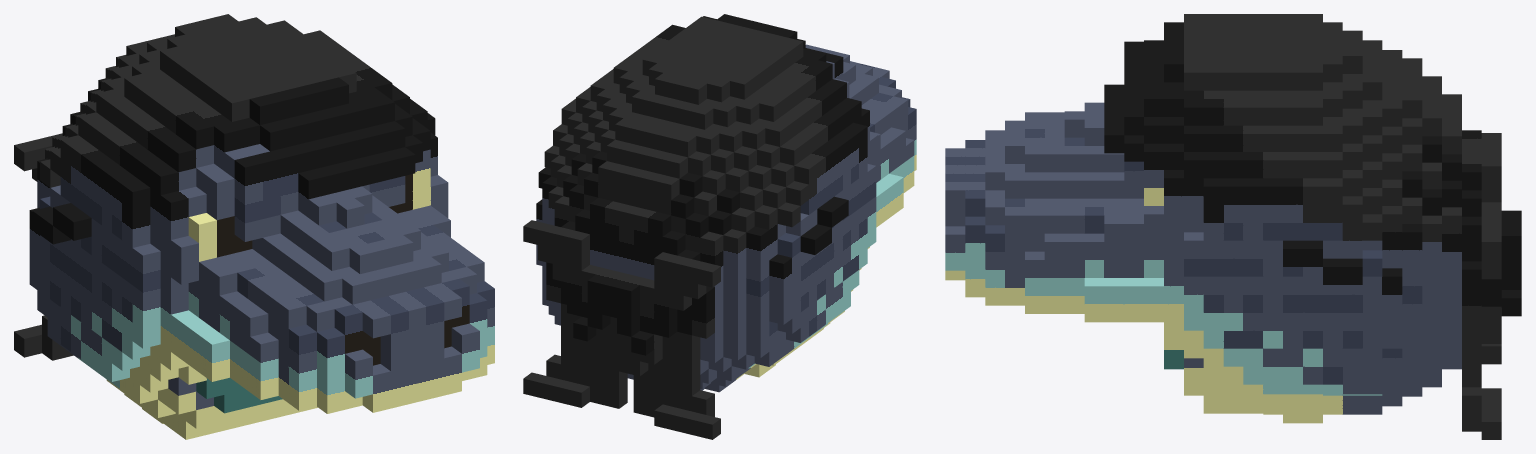
The model's file is black durag_eye patch.gltf.
The picture shows the model from 3 angles, left to right: view 1: azimuth 30°, elevation 25°; view 2: azimuth 150°, elevation 25°; view 3: azimuth 270°, elevation 25°; orthographic projection. The views are drawn at different scales.
Parts seen in each view (by area): view 1: C17_H_blacDurag_EyePatch-Mesh; view 2: C17_H_blacDurag_EyePatch-Mesh; view 3: C17_H_blacDurag_EyePatch-Mesh.
Boxes of the visible parts, x1,y1,x2,y2 form: C17_H_blacDurag_EyePatch-Mesh: (14,14,494,439); C17_H_blacDurag_EyePatch-Mesh: (523,14,916,439); C17_H_blacDurag_EyePatch-Mesh: (945,14,1521,439).
Bounding box in the file's own units: 19 × 19 × 29.
Materials: 1 (1 with a texture image).
